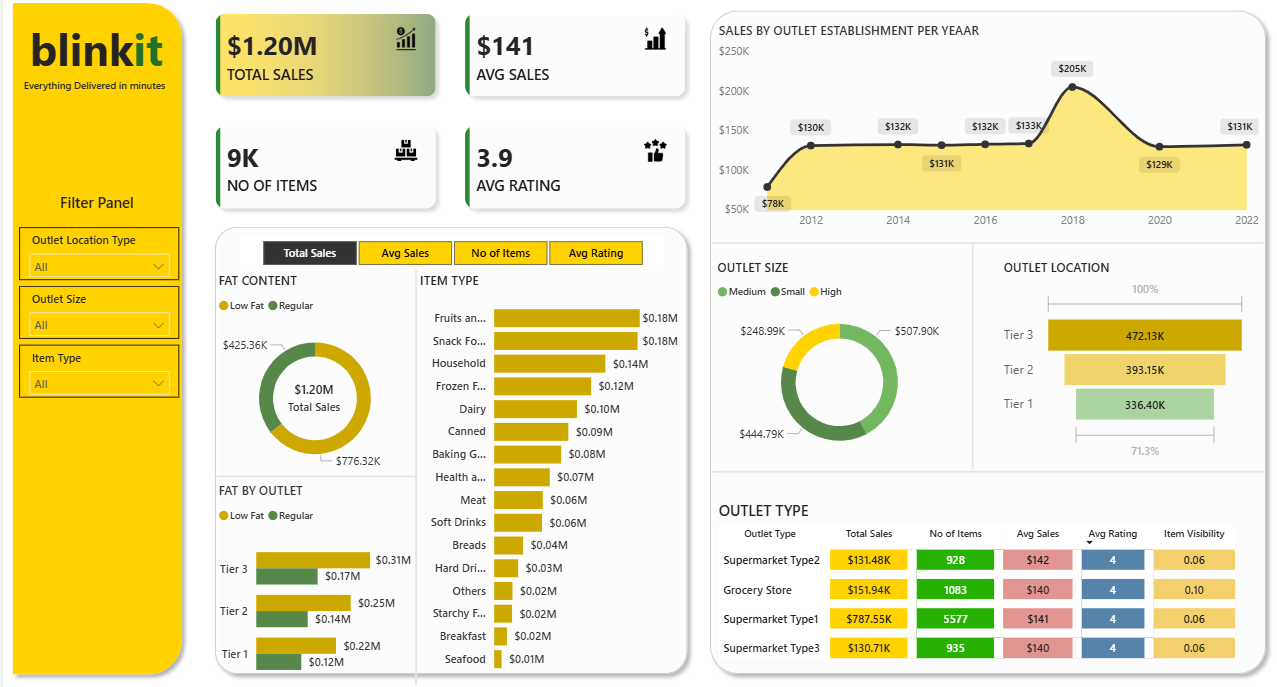

The dashboard page shown, as its layout file describes it:
{"tool":"powerbi","page":{"name":"Page 2","canvas":[1400,800],"ordinal":1},"visuals":[{"type":"shape","box":[1.5,15,202.6,750.4],"z":0},{"type":"textbox","box":[0,36,204.1,82.5],"z":1000},{"type":"cardVisual","fields":{"Data":["BlinkIT Grocery Data.Total Sales","BlinkIT Grocery Data.Avg Sales","BlinkIT Grocery Data.No of Items","BlinkIT Grocery Data.Avg Rating"]},"box":[202.9,7.1,570,270],"z":2000},{"type":"shape","box":[222.2,259,533.1,505.8],"z":3000},{"type":"slicer","fields":{"Values":["Metrics.Metrics"]},"box":[257.1,277.1,464.3,40],"z":4000},{"type":"donutChart","title":"FAT CONTENT","fields":{"Y":["BlinkIT Grocery Data.Total Sales"],"Category":["BlinkIT Grocery Data.Item Fat Content"]},"box":[230,317.1,220,230],"z":5000},{"type":"cardVisual","fields":{"Data":["BlinkIT Grocery Data.Total Sales"]},"box":[281.4,420,117.1,68.6],"z":6000},{"type":"clusteredBarChart","title":"FAT BY OUTLET","fields":{"Y":["BlinkIT Grocery Data.Total Sales"],"Category":["BlinkIT Grocery Data.Outlet Location Type"],"Series":["BlinkIT Grocery Data.Item Fat Content"]},"box":[230,547.1,220,230],"z":7000},{"type":"barChart","title":"ITEM TYPE","fields":{"Y":["BlinkIT Grocery Data.Total Sales"],"Category":["BlinkIT Grocery Data.Item Type"]},"box":[450,317.1,291.4,447.1],"z":8000},{"type":"shape","box":[230,517.1,220,47.1],"z":9000},{"type":"shape","box":[437.1,314.3,25.7,452.9],"z":10000},{"type":"shape","box":[762.1,23.2,624.4,741.7],"z":11000},{"type":"lineChart","title":"SALES BY OUTLET ESTABLISHMENT PER YEAAR","fields":{"Y":["BlinkIT Grocery Data.Total Sales"],"Category":["BlinkIT Grocery Data.Outlet Establishment Year"]},"box":[775.9,45,598.8,234.1],"z":12000},{"type":"shape","box":[772.9,261.2,601.8,48],"z":13000},{"type":"donutChart","title":"OUTLET SIZE","fields":{"Y":["BlinkIT Grocery Data.Total Sales"],"Category":["BlinkIT Grocery Data.Outlet Size"]},"box":[774.4,303.2,276.2,225.1],"z":14000},{"type":"shape","box":[1047.6,286.7,21,246.1],"z":15000},{"type":"funnel","title":"OUTLET LOCATION","fields":{"Y":["Sum(BlinkIT Grocery Data.Sales)"],"Category":["BlinkIT Grocery Data.Outlet Location Type"]},"box":[1086.6,303.2,274.7,225.1],"z":16000},{"type":"shape","box":[772.9,511.8,601.8,48],"z":17000},{"type":"pivotTable","title":"OUTLET TYPE","fields":{"Rows":["BlinkIT Grocery Data.Outlet Type"],"Values":["BlinkIT Grocery Data.Total Sales","BlinkIT Grocery Data.No of Items","BlinkIT Grocery Data.Avg Sales","BlinkIT Grocery Data.Avg Rating","Avg(BlinkIT Grocery Data.Item Visibility)"]},"box":[775.9,565.8,585.3,189.1],"z":18000},{"type":"textbox","box":[18,97.6,186.1,42],"z":19000},{"type":"slicer","fields":{"Values":["BlinkIT Grocery Data.Outlet Location Type"]},"box":[17.7,268.6,174.5,57.3],"z":20000},{"type":"slicer","fields":{"Values":["BlinkIT Grocery Data.Outlet Size"]},"box":[17.7,332.7,174.5,57.3],"z":21000},{"type":"slicer","fields":{"Values":["BlinkIT Grocery Data.Item Type"]},"box":[17.7,396.7,174.5,57.3],"z":22000},{"type":"textbox","box":[57.3,225,96.8,36.8],"z":22001}]}

Visuals, with their boxes on the page's 1400x800 design canvas (x1, y1, x2, y2). These are canvas units, not pixel positions in the 1277x687 screenshot, which may show the page scaled, cropped or inside an application window:
shape: (2,15,204,765)
textbox: (0,36,204,118)
cardVisual - BlinkIT Grocery Data.Total Sales x BlinkIT Grocery Data.Avg Sales: (203,7,773,277)
shape: (222,259,755,765)
slicer - Metrics.Metrics: (257,277,721,317)
"FAT CONTENT" donutChart: (230,317,450,547)
cardVisual - BlinkIT Grocery Data.Total Sales: (281,420,398,489)
"FAT BY OUTLET" clusteredBarChart: (230,547,450,777)
"ITEM TYPE" barChart: (450,317,741,764)
shape: (230,517,450,564)
shape: (437,314,463,767)
shape: (762,23,1386,765)
"SALES BY OUTLET ESTABLISHMENT PER YEAAR" lineChart: (776,45,1375,279)
shape: (773,261,1375,309)
"OUTLET SIZE" donutChart: (774,303,1051,528)
shape: (1048,287,1069,533)
"OUTLET LOCATION" funnel: (1087,303,1361,528)
shape: (773,512,1375,560)
"OUTLET TYPE" pivotTable: (776,566,1361,755)
textbox: (18,98,204,140)
slicer - BlinkIT Grocery Data.Outlet Location Type: (18,269,192,326)
slicer - BlinkIT Grocery Data.Outlet Size: (18,333,192,390)
slicer - BlinkIT Grocery Data.Item Type: (18,397,192,454)
textbox: (57,225,154,262)
